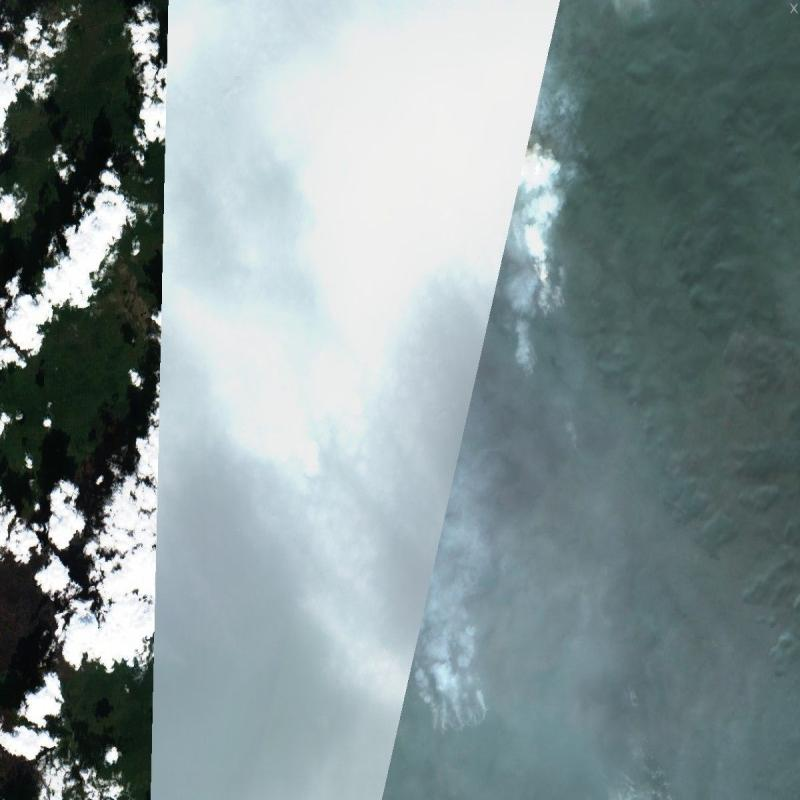fire: (409, 126, 572, 369), (380, 610, 496, 743), (282, 430, 346, 523)
